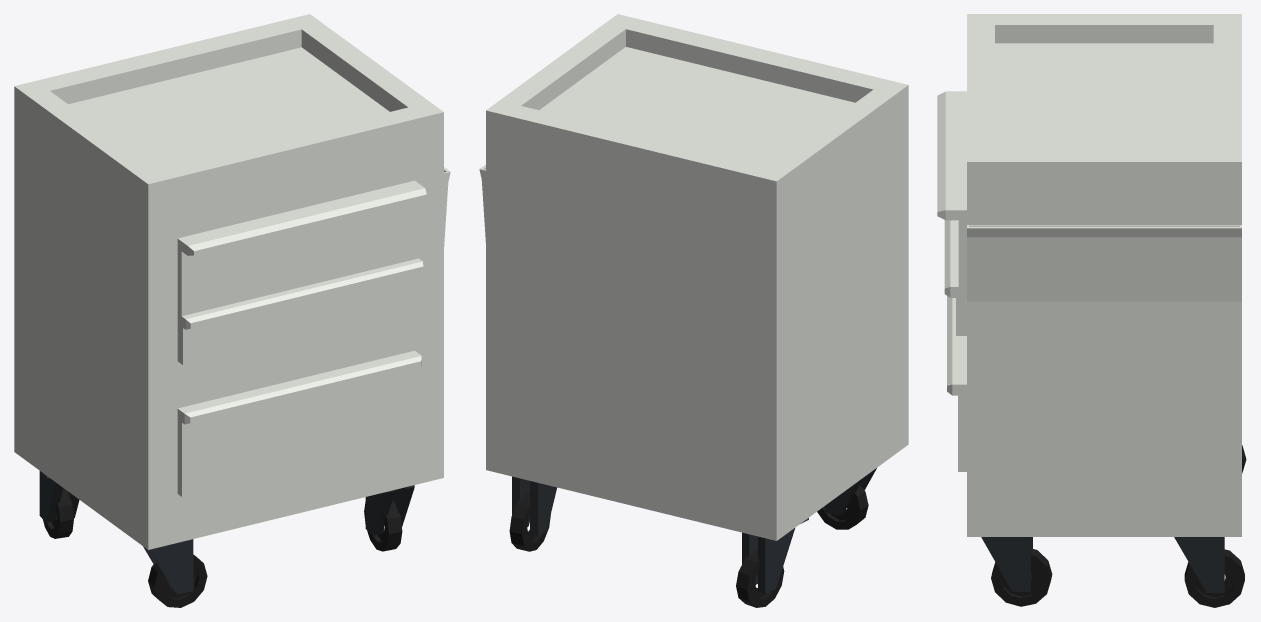
Rendered from SM_rolling_drawer.fbx.
3 renders of one model, left to right at view 1: azimuth 30°, elevation 25°; view 2: azimuth 150°, elevation 25°; view 3: azimuth 270°, elevation 25°, orthographic. The views are drawn at different scales.
Visible parts, largest first — view 1: rolling_drawer; view 2: rolling_drawer; view 3: rolling_drawer.
Part boxes in pixels (x1=…): rolling_drawer: x1=14, y1=14, x2=450, y2=607; rolling_drawer: x1=479, y1=14, x2=908, y2=607; rolling_drawer: x1=937, y1=14, x2=1246, y2=607.
Bounding box in the file's own units: 80.12 × 113 × 69.11.
